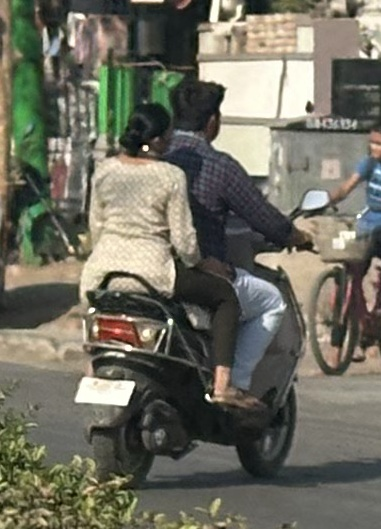BikeWithRider: (71, 77, 334, 491)
NoHelmet: (171, 78, 226, 143), (116, 100, 177, 158)
